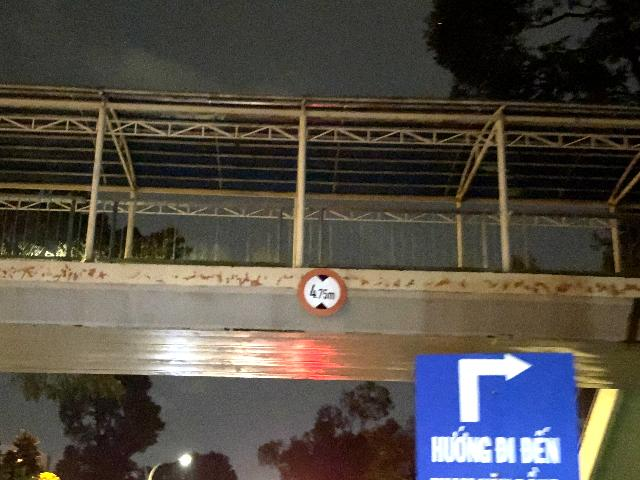han-che-chieu-cao: (298, 268, 347, 317)
